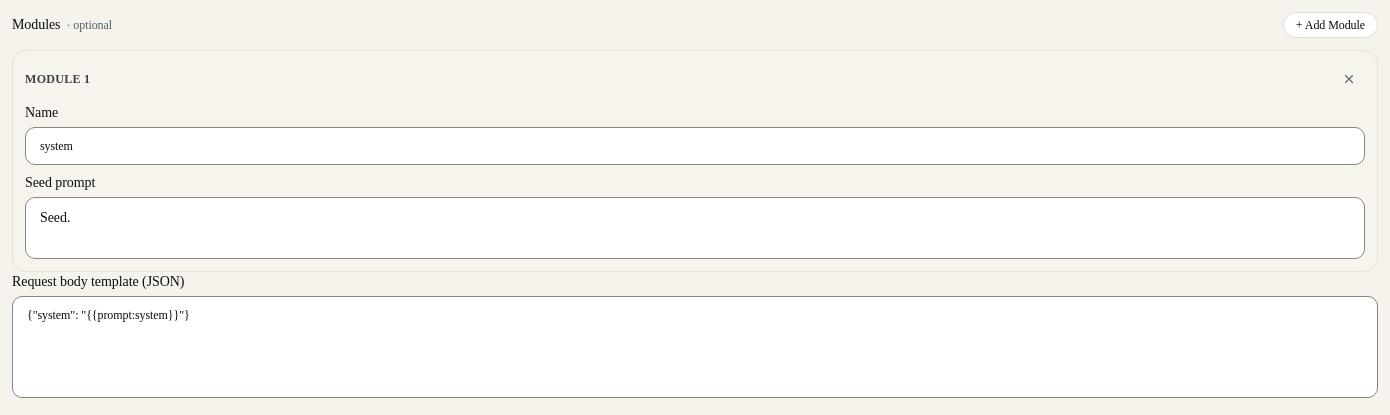
Test: ModulesEditor › explains the empty state in optional mode and allows removing the last row
Click the button named "Remove Module 1". click: coordinates (1349, 79)
box: top-left (1333, 63), bottom-right (1365, 95)
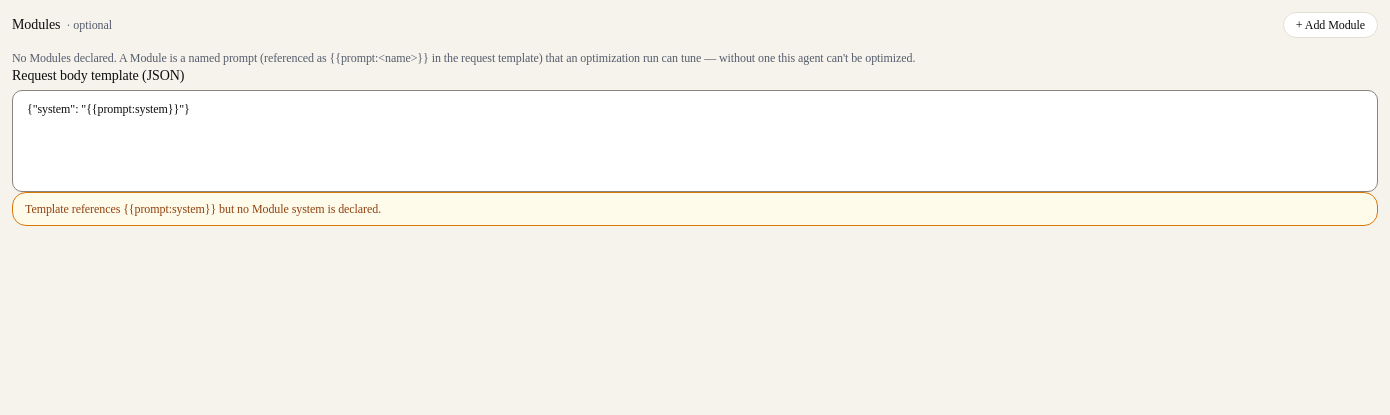
Check: the field labelled "Module 1 Name" is gone
Check: the text "No Modules declared" is shown, box top-left (12, 51), bottom-right (330, 65)
